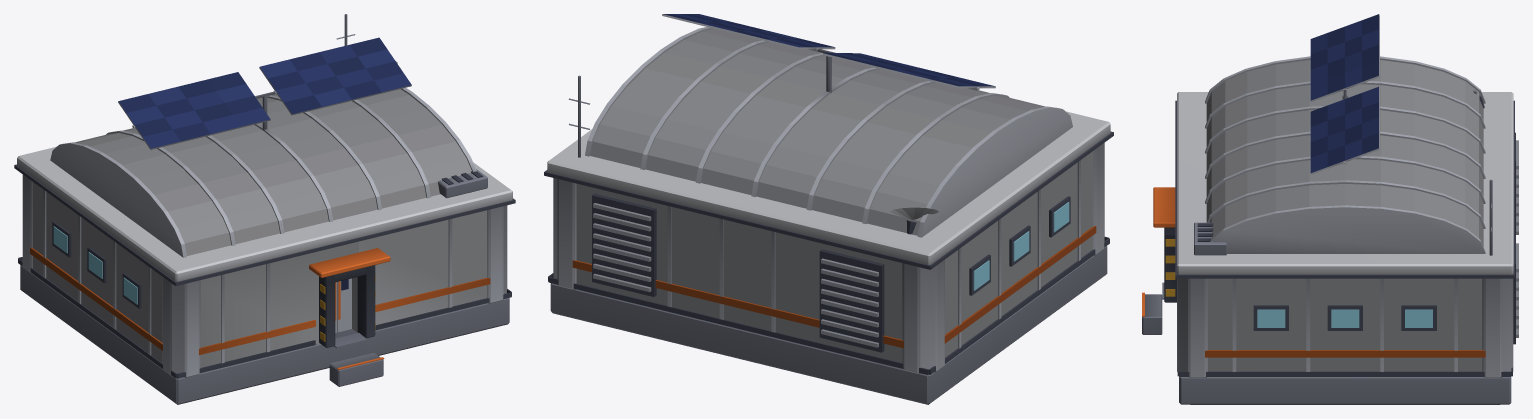
Rendered from habitat.glb.
3 renders of one model, left to right at view 1: azimuth 30°, elevation 25°; view 2: azimuth 150°, elevation 25°; view 3: azimuth 270°, elevation 25°, orthographic. The views are drawn at different scales.
Visible parts, largest first — view 1: habitat, lit_windows, door_r; view 2: habitat, lit_windows; view 3: habitat, lit_windows.
Boxes of the visible parts, bbox=[...] form: habitat: bbox=[14, 14, 515, 404]; lit_windows: bbox=[53, 226, 137, 304]; door_r: bbox=[337, 278, 351, 332]; habitat: bbox=[544, 14, 1113, 404]; lit_windows: bbox=[973, 202, 1069, 290]; habitat: bbox=[1142, 14, 1518, 404]; lit_windows: bbox=[1257, 309, 1432, 327].
Bounding box in the file's own units: 11.2 × 7.25 × 10.2.
